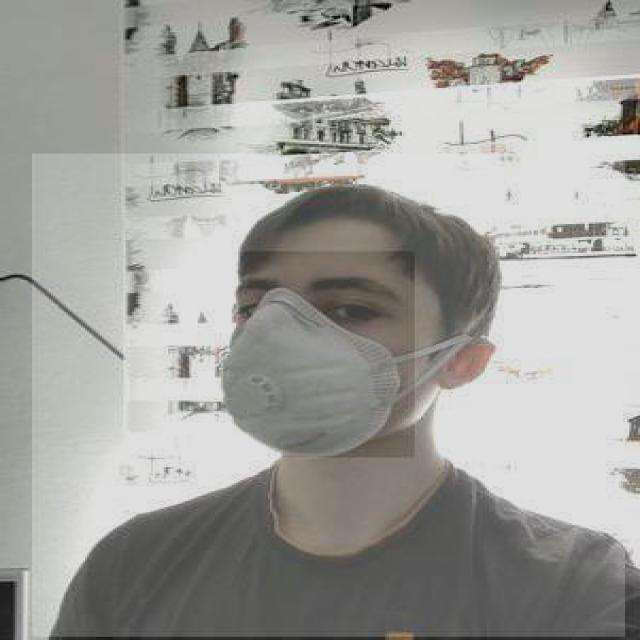face_mask: (223, 251, 415, 458)
head_nohelmet: (257, 179, 474, 256)
person: (30, 154, 625, 638)
